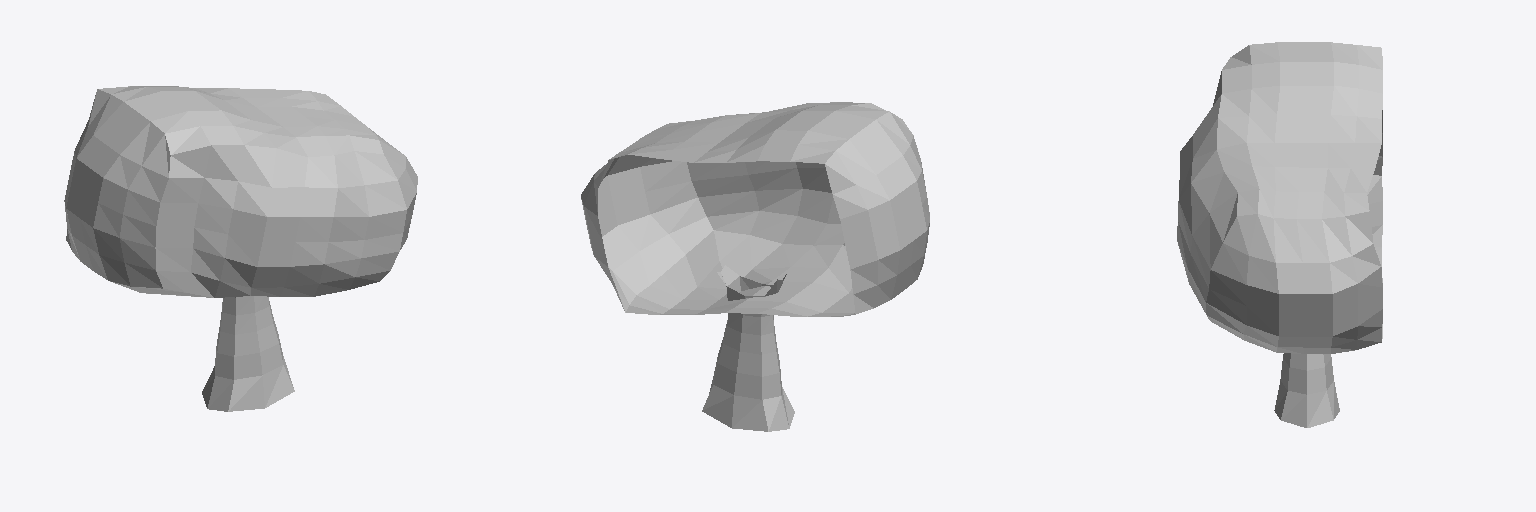
Rendered from Tree.obj.
3 views of the same model, side by side, from view 1: azimuth 30°, elevation 25°; view 2: azimuth 150°, elevation 25°; view 3: azimuth 270°, elevation 25° (orthographic).
Visible parts, largest first — view 1: Cube.003_Cube.007; view 2: Cube.003_Cube.007; view 3: Cube.003_Cube.007.
Part boxes in pixels (x1,y1,x2,y2): Cube.003_Cube.007: (64,86,417,411); Cube.003_Cube.007: (581,102,929,431); Cube.003_Cube.007: (1177,42,1382,427).
Size of the model in its own units: 8.35 by 8 by 4.64.